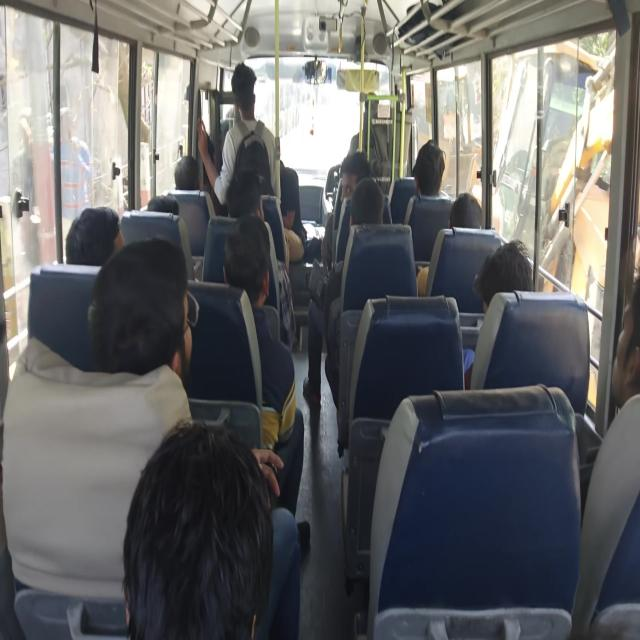person: (121, 422, 276, 636), (87, 236, 191, 384), (414, 170, 484, 296), (213, 47, 271, 147), (223, 215, 272, 305), (475, 239, 536, 309), (611, 268, 640, 411), (66, 204, 122, 268), (277, 154, 307, 223), (226, 170, 267, 220), (412, 140, 446, 200), (348, 175, 384, 228), (339, 149, 372, 204), (448, 192, 484, 230), (173, 155, 200, 192), (145, 193, 180, 217)
